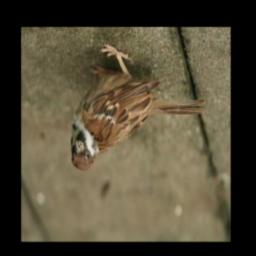Sparrow: (69, 42, 204, 174)
